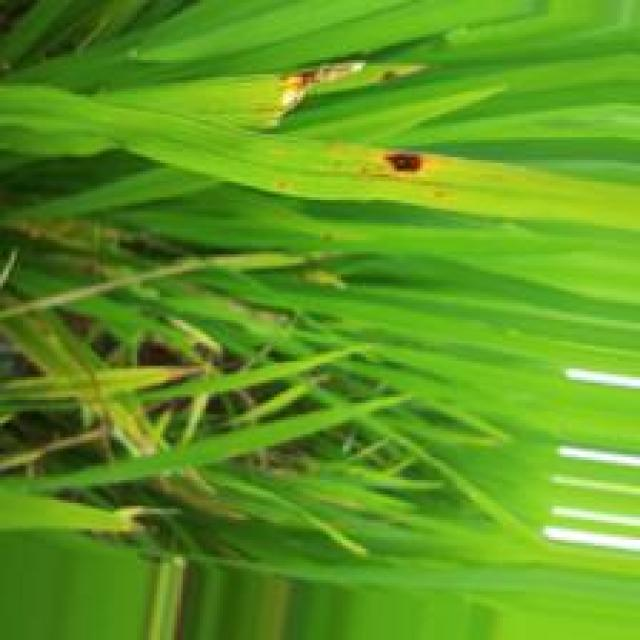Brown_Spot: (381, 154, 426, 177)
